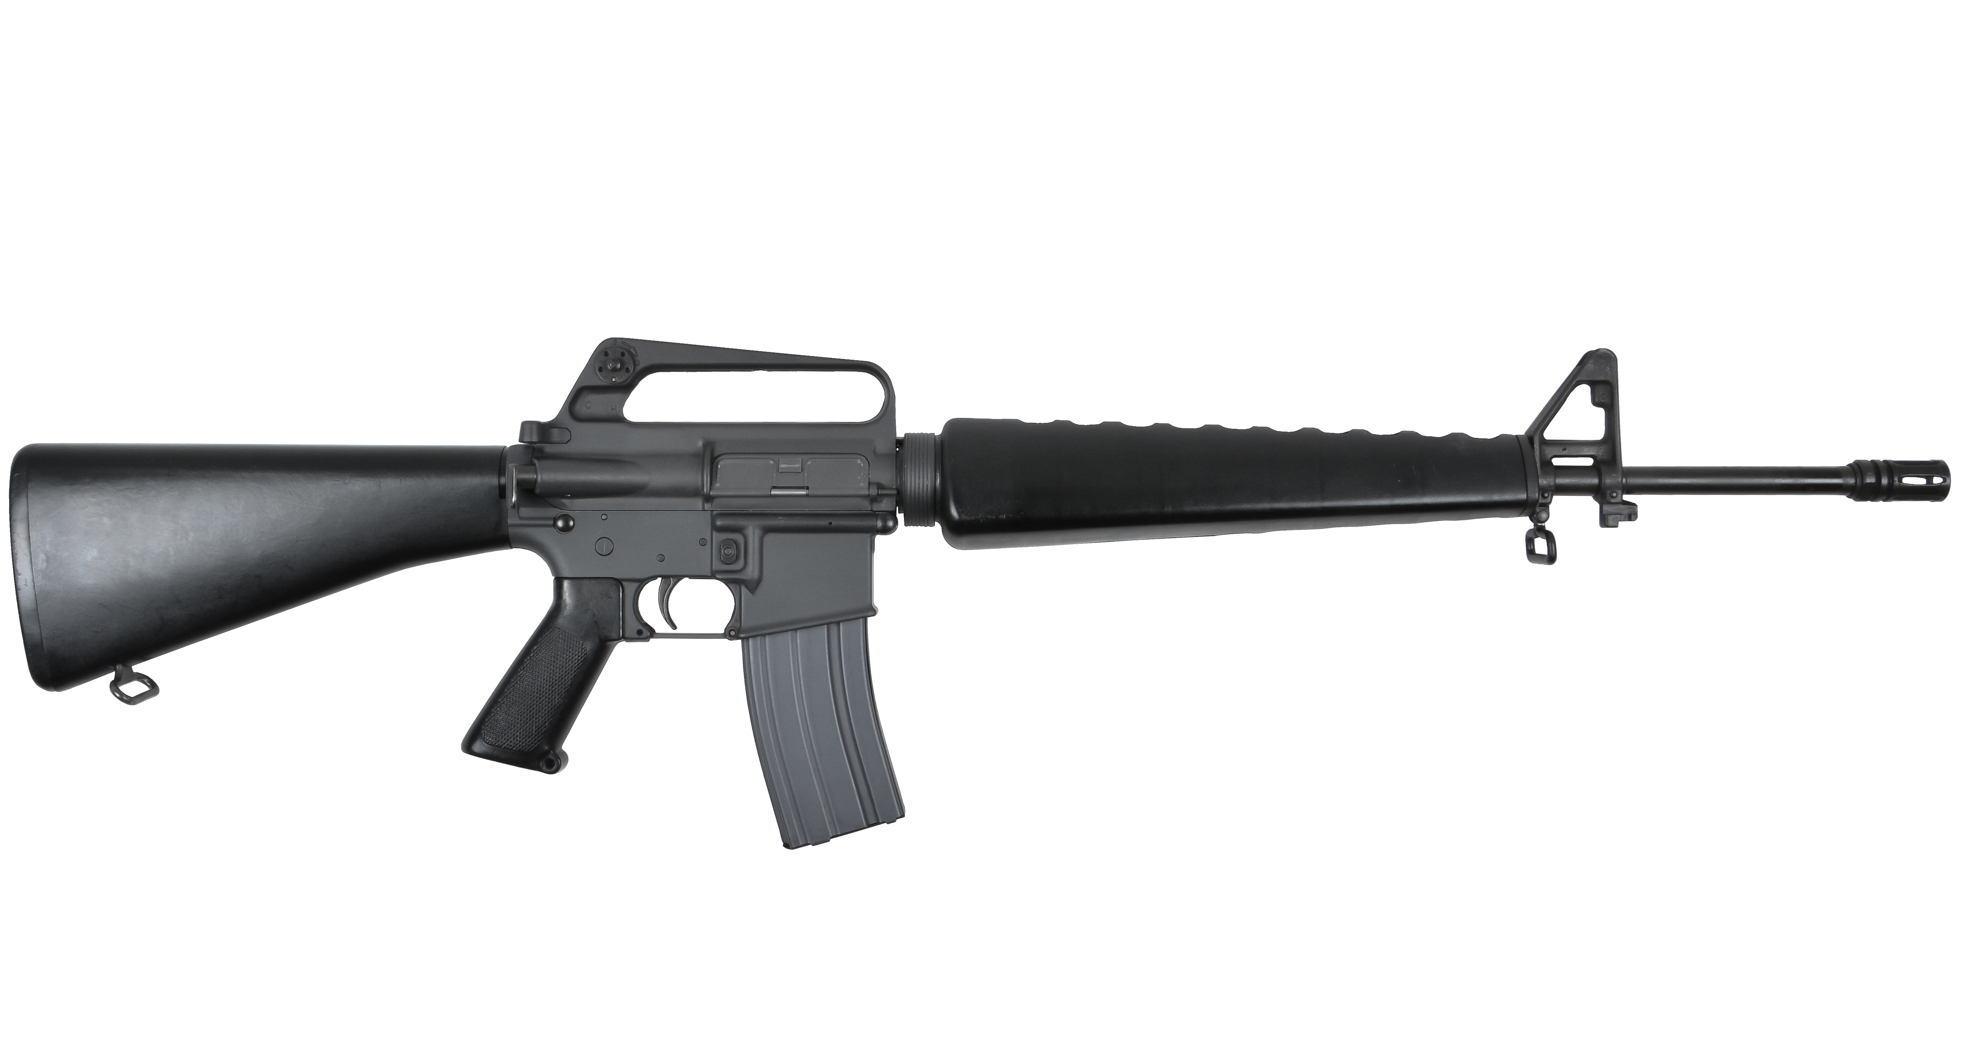Arma Real: (13, 338, 1958, 856)
